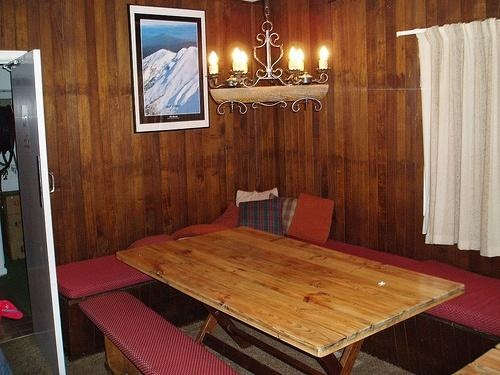diningtable: (114, 223, 469, 375)
